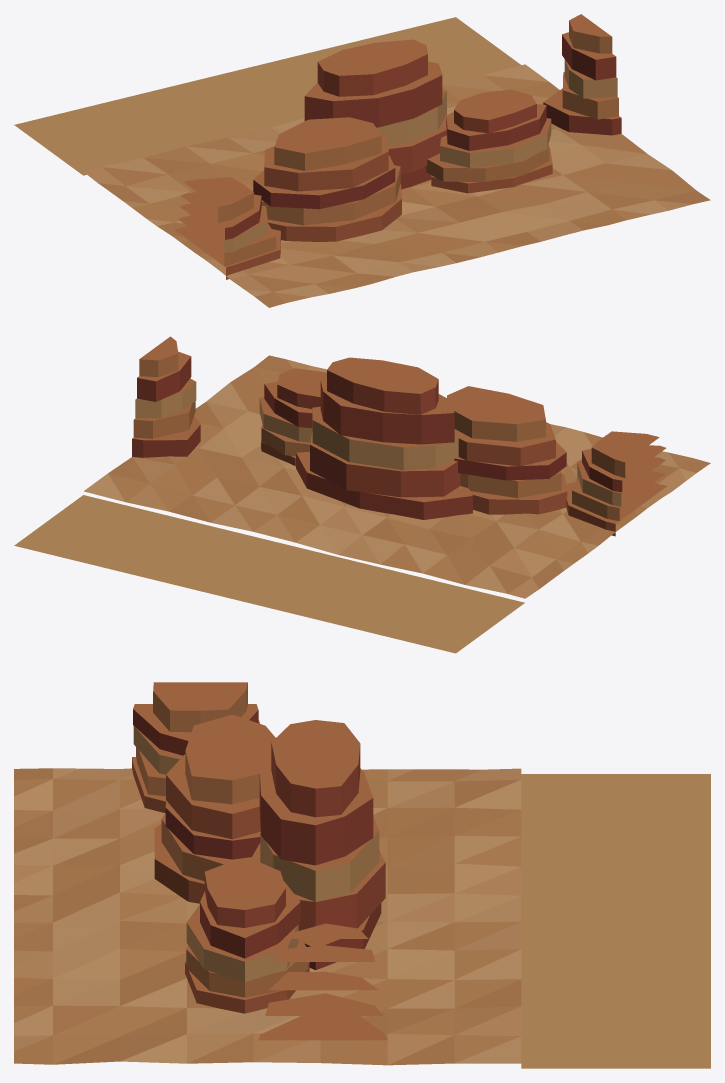
The picture shows the model from 3 angles, top to bottom: view 1: azimuth 30°, elevation 25°; view 2: azimuth 150°, elevation 25°; view 3: azimuth 270°, elevation 25°; orthographic projection. The views are drawn at different scales.
Visible parts, largest first — view 1: baked; view 2: baked; view 3: baked.
Boxes of the visible parts, box(x1,y1,x2,y2) form: baked: box(14, 14, 710, 307); baked: box(14, 336, 710, 653); baked: box(14, 682, 710, 1068).
Bounding box in the file's own units: 125 × 32.44 × 125.
